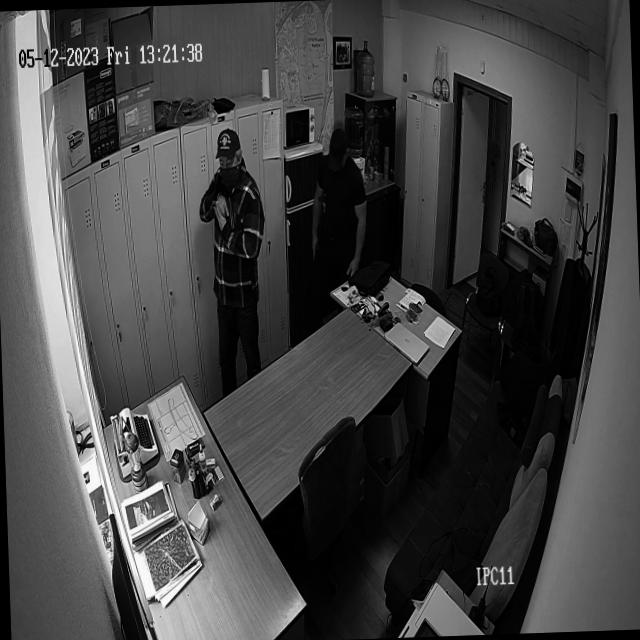gun: (306, 126, 369, 292), (224, 196, 236, 233), (311, 240, 321, 273)
person with a gun: (196, 124, 270, 362)
